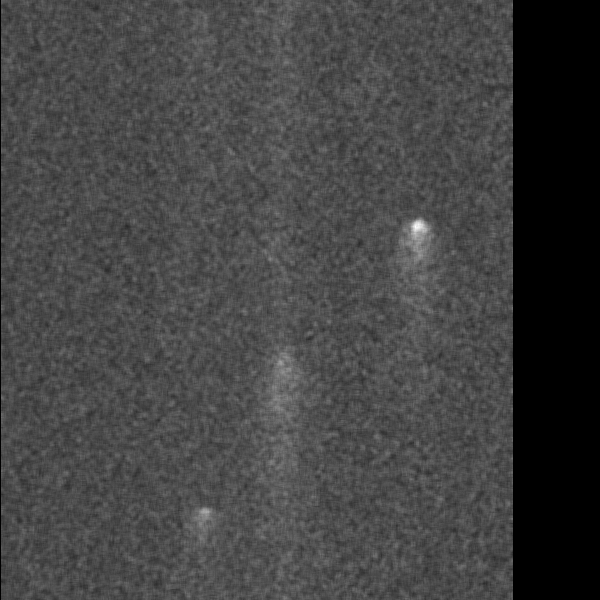spark: (268, 349, 294, 445), (402, 215, 438, 284), (188, 502, 214, 542)
